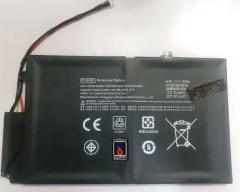electronic: (4, 4, 238, 188)
